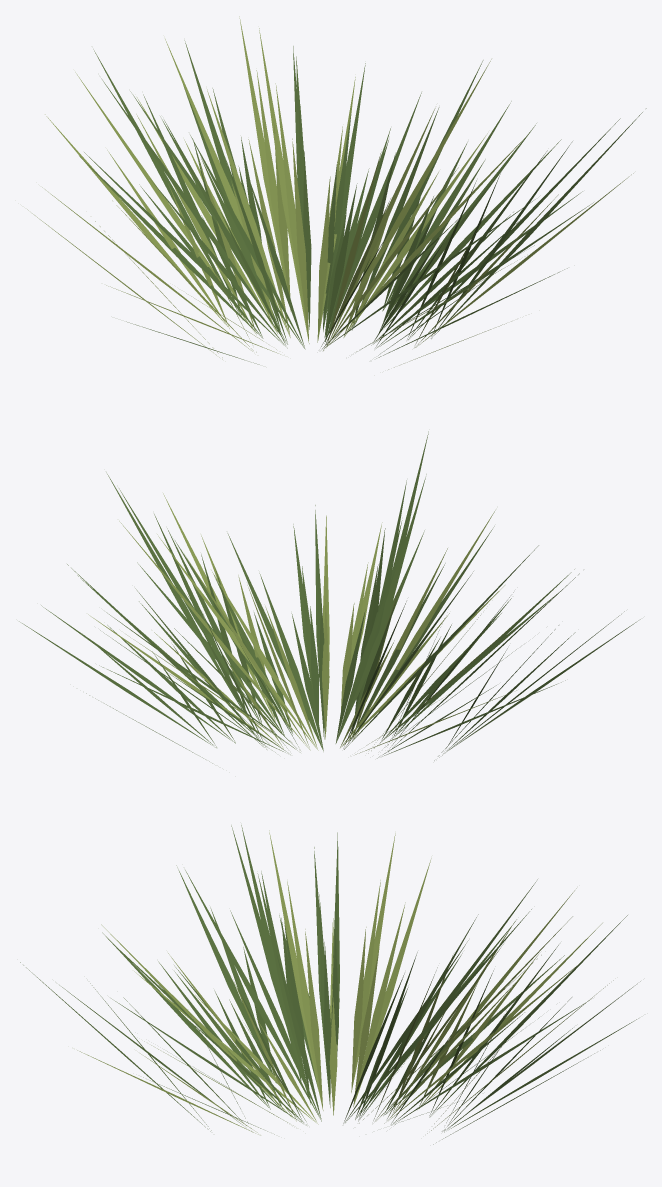
Rendered from sedge.glb.
3 views of the same model, one above another, from view 1: azimuth 30°, elevation 25°; view 2: azimuth 150°, elevation 25°; view 3: azimuth 270°, elevation 25° (orthographic). The views are drawn at different scales.
Parts seen in each view (by area): view 1: sedge; view 2: sedge; view 3: sedge.
Part boxes in pixels (box(x1,y1,x2,y2)): sedge: box(27, 16, 646, 369); sedge: box(19, 431, 640, 763); sedge: box(20, 825, 640, 1144).
Size of the model in its own units: 2.82 by 1.08 by 2.94.
